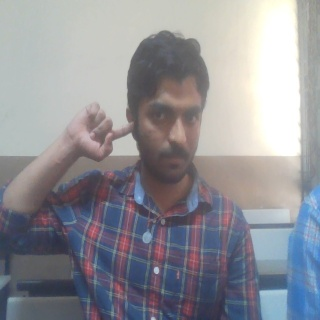Deaf: (61, 101, 135, 164)
Face: (125, 28, 210, 186)
